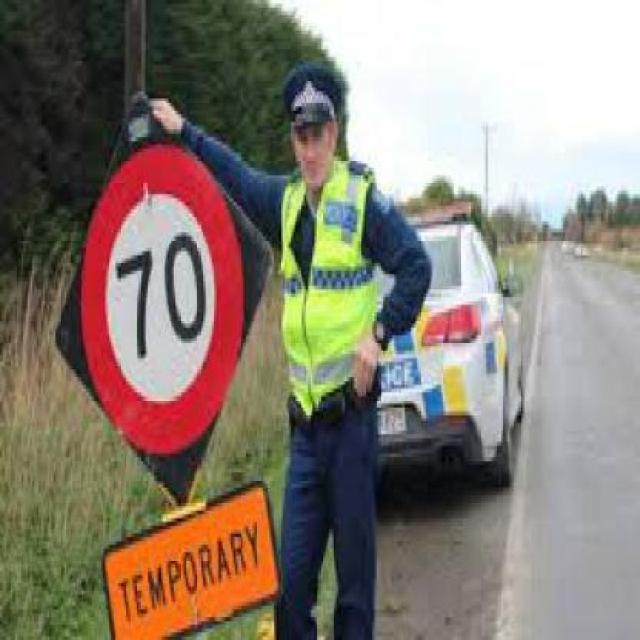forb_speed_over_70: (77, 133, 246, 450)
